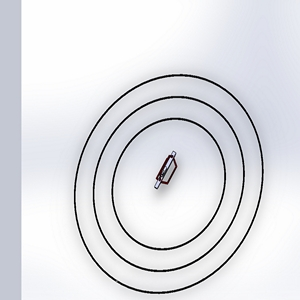circle: (65, 69, 276, 298)
submarine: (147, 146, 188, 199)
